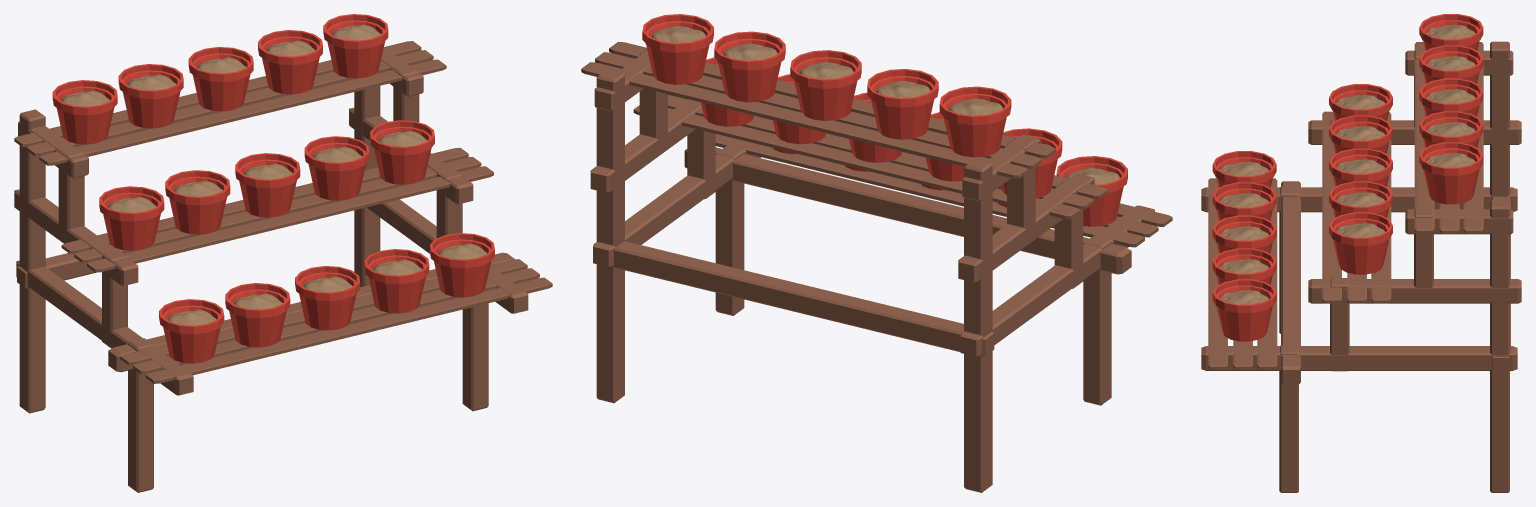
Rendered from tes rak.fbx.
3 renders of one model, left to right at view 1: azimuth 30°, elevation 25°; view 2: azimuth 150°, elevation 25°; view 3: azimuth 270°, elevation 25°, orthographic. The views are drawn at different scales.
Parts seen in each view (by area): view 1: Cube.024, Cylinder.021; view 2: Cube.024, Cylinder.021; view 3: Cube.024, Cylinder.021.
Boxes of the visible parts, <box> form: Cube.024: <box>14,41,552,492</box>; Cylinder.021: <box>52,14,494,363</box>; Cube.024: <box>581,41,1172,492</box>; Cylinder.021: <box>642,14,1127,226</box>; Cube.024: <box>1201,41,1521,492</box>; Cylinder.021: <box>1212,14,1483,341</box>.
Size of the model in its own units: 582 by 455 by 417.
